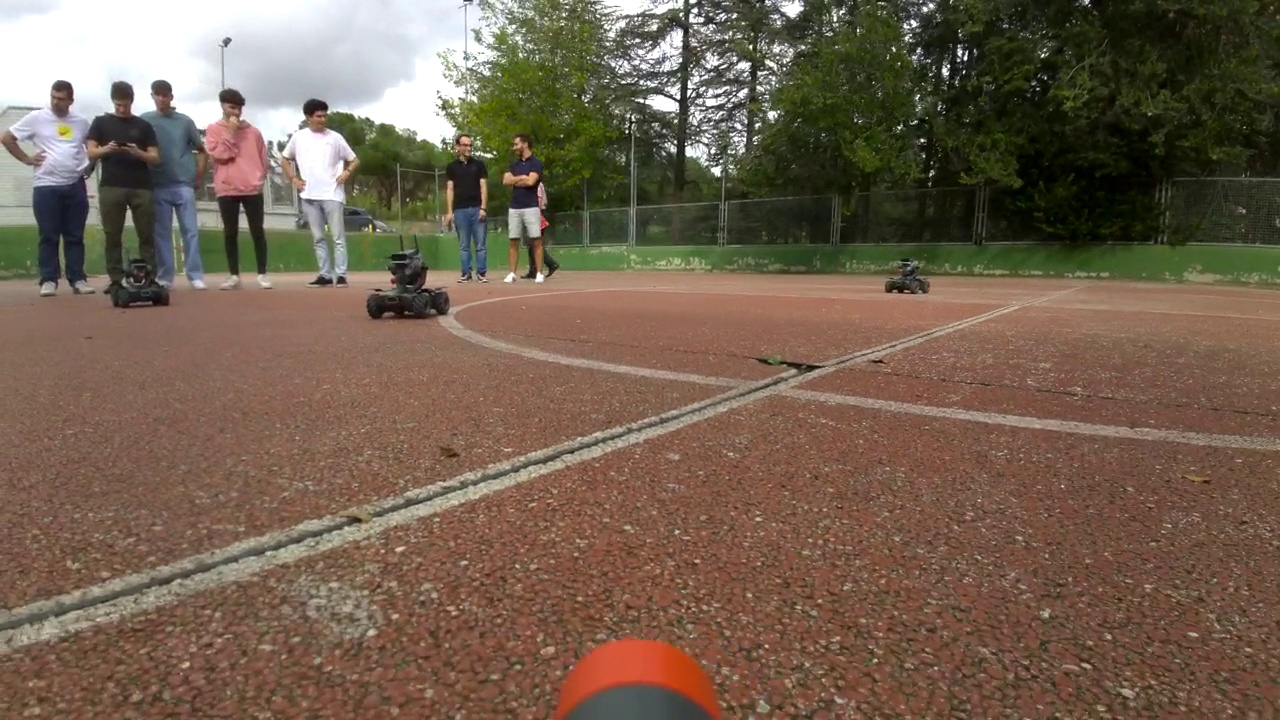robot: (367, 248, 449, 317), (113, 260, 165, 305), (885, 259, 931, 294)
